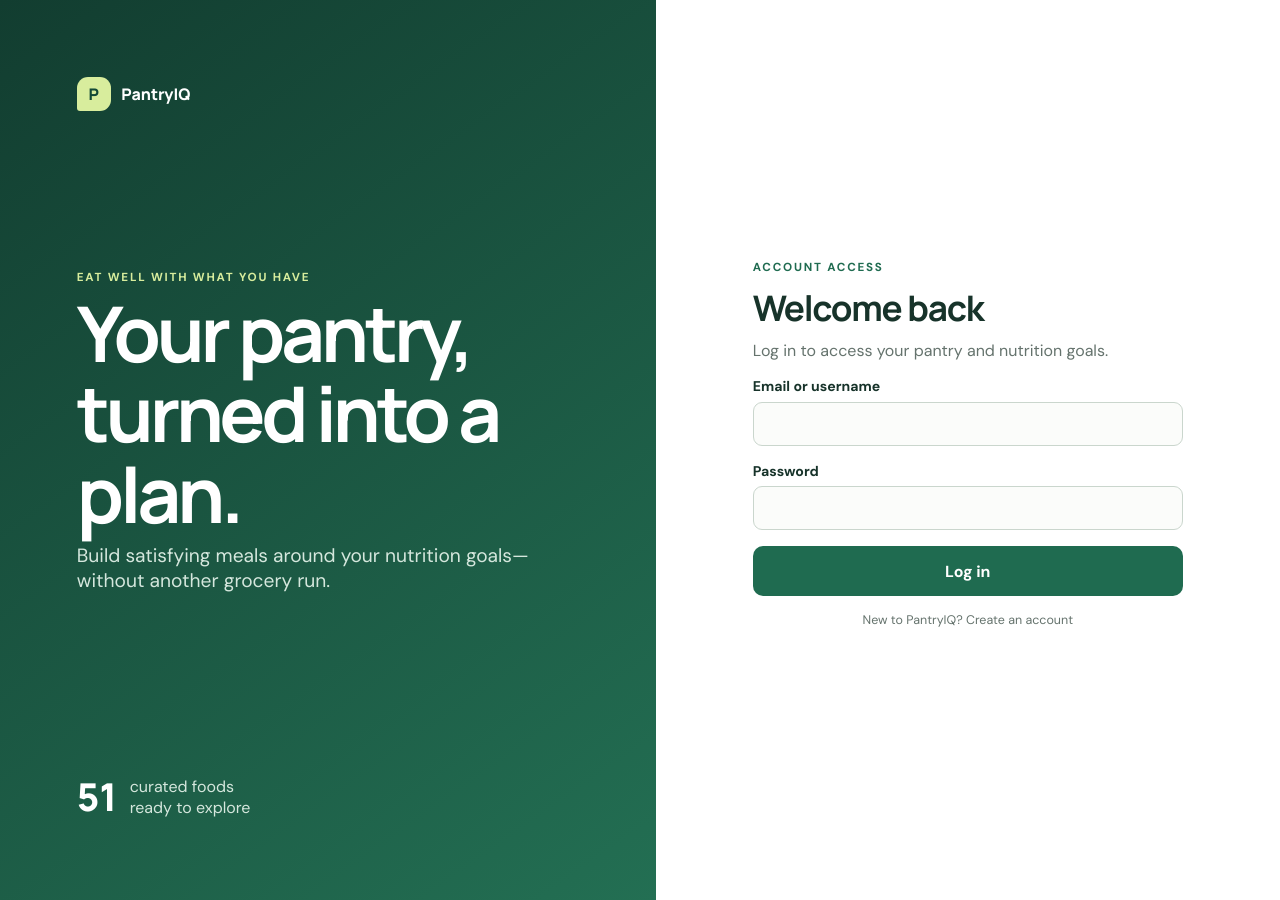
authentication pages › shows a generic login failure
The image size is (1280, 900).
Type "missing" into the field labelled "Email or username". click: (968, 424)
box: [753,402,1183,446]
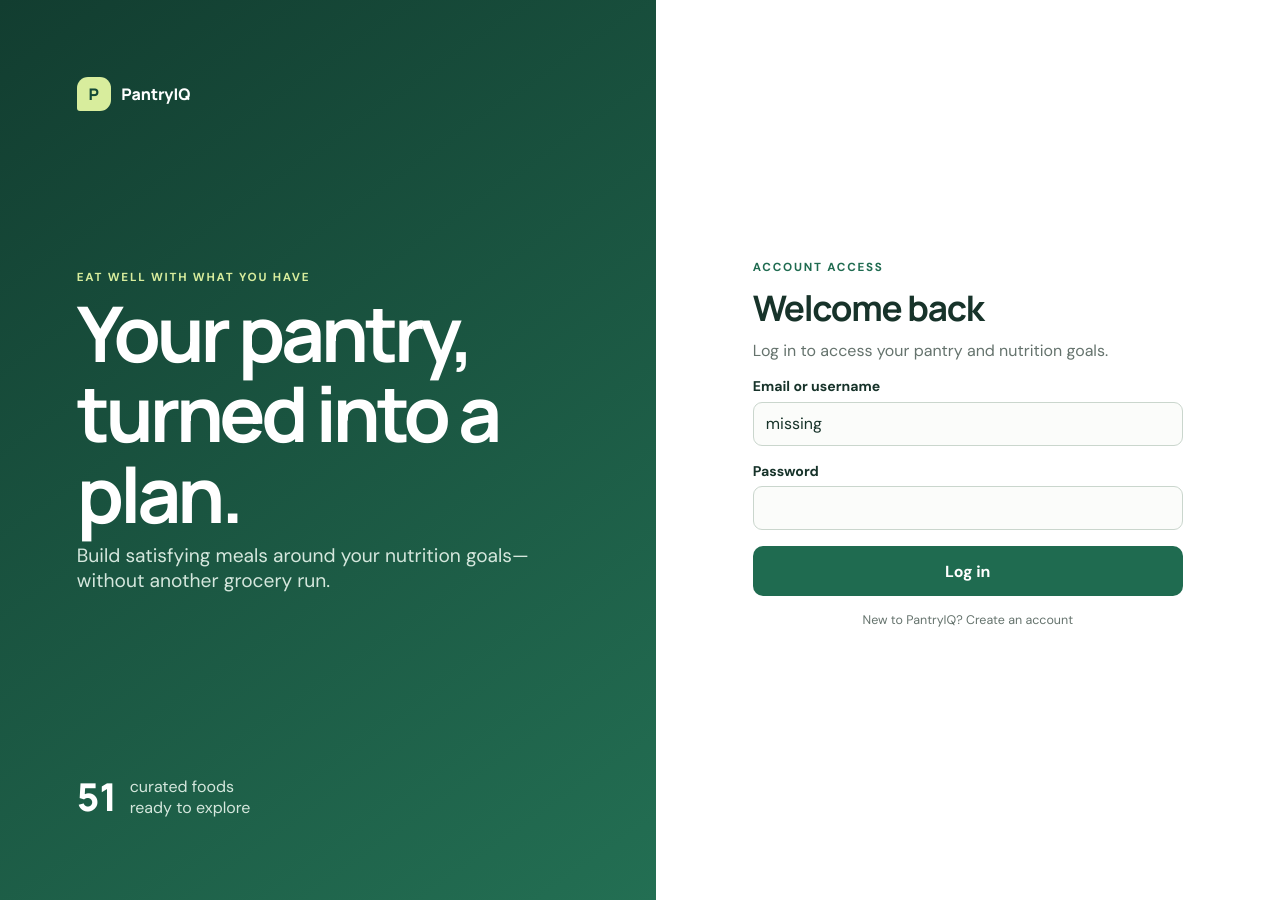
Type "wrong" into the password field labelled "Password". click: (968, 508)
box: [753,486,1183,530]
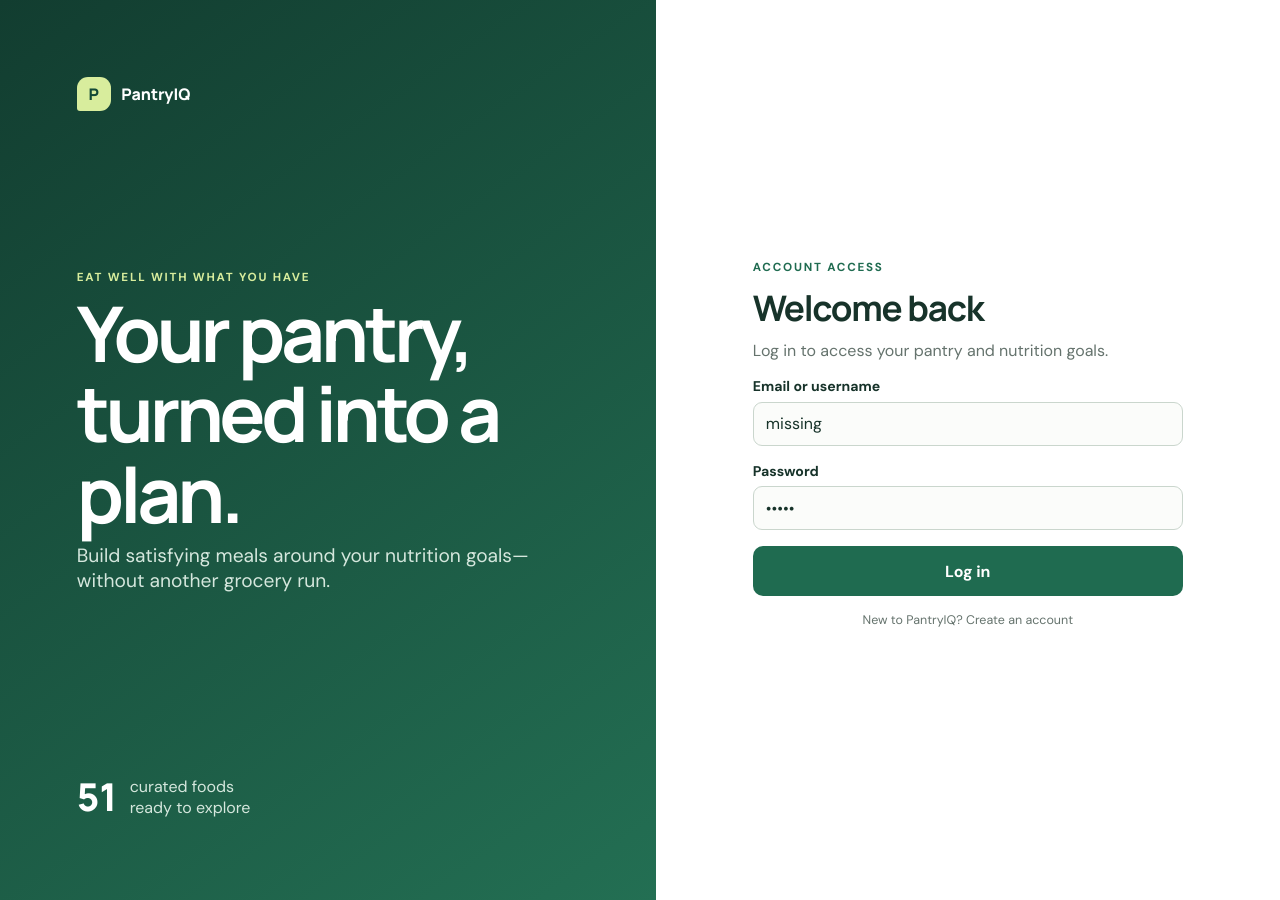
Click the button "Log in". click: (968, 571)
box: [753,546,1183,596]
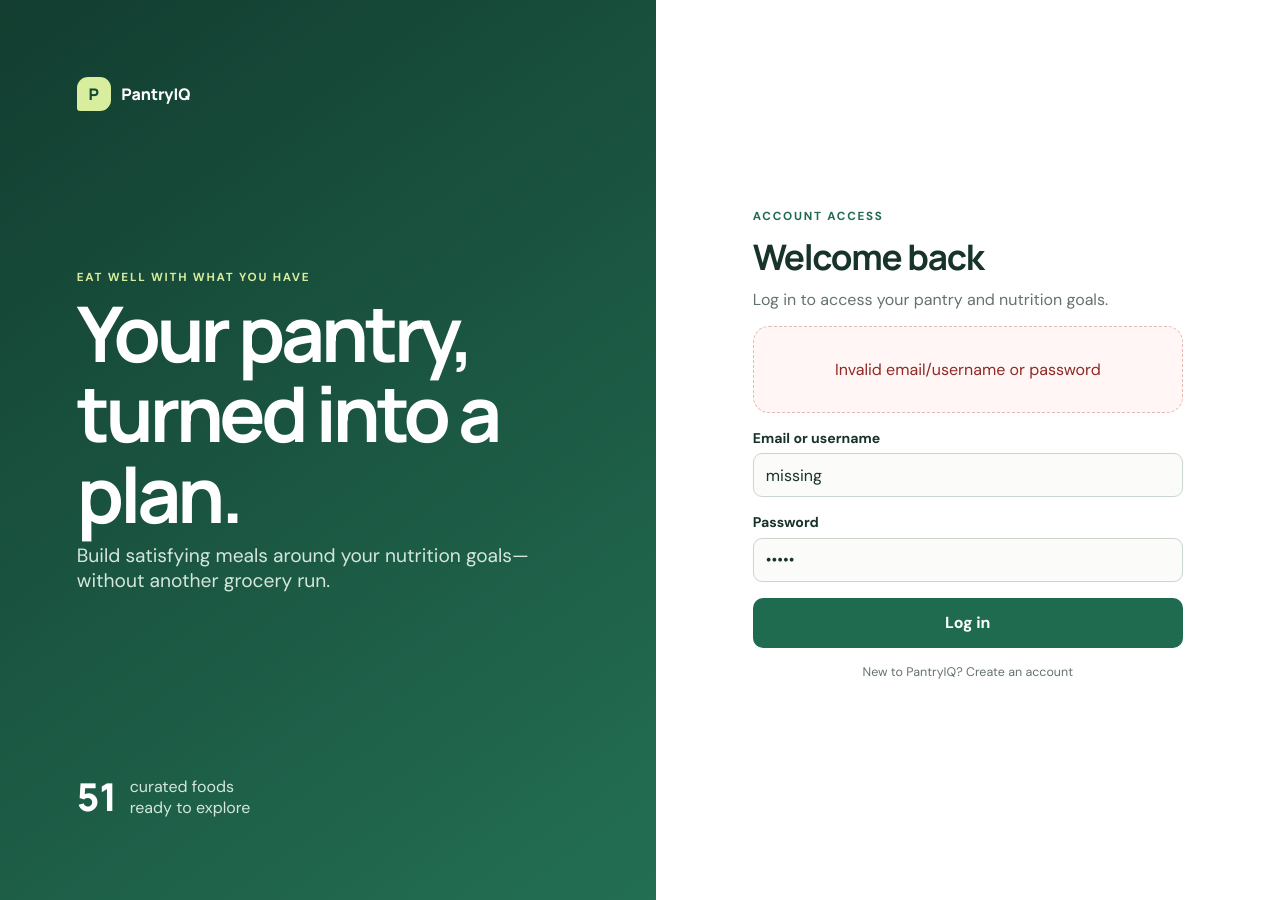
Result: the message reads "Invalid email/username or password" at [835,359,1101,380]
